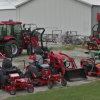Tractor: (2, 12, 54, 57)
